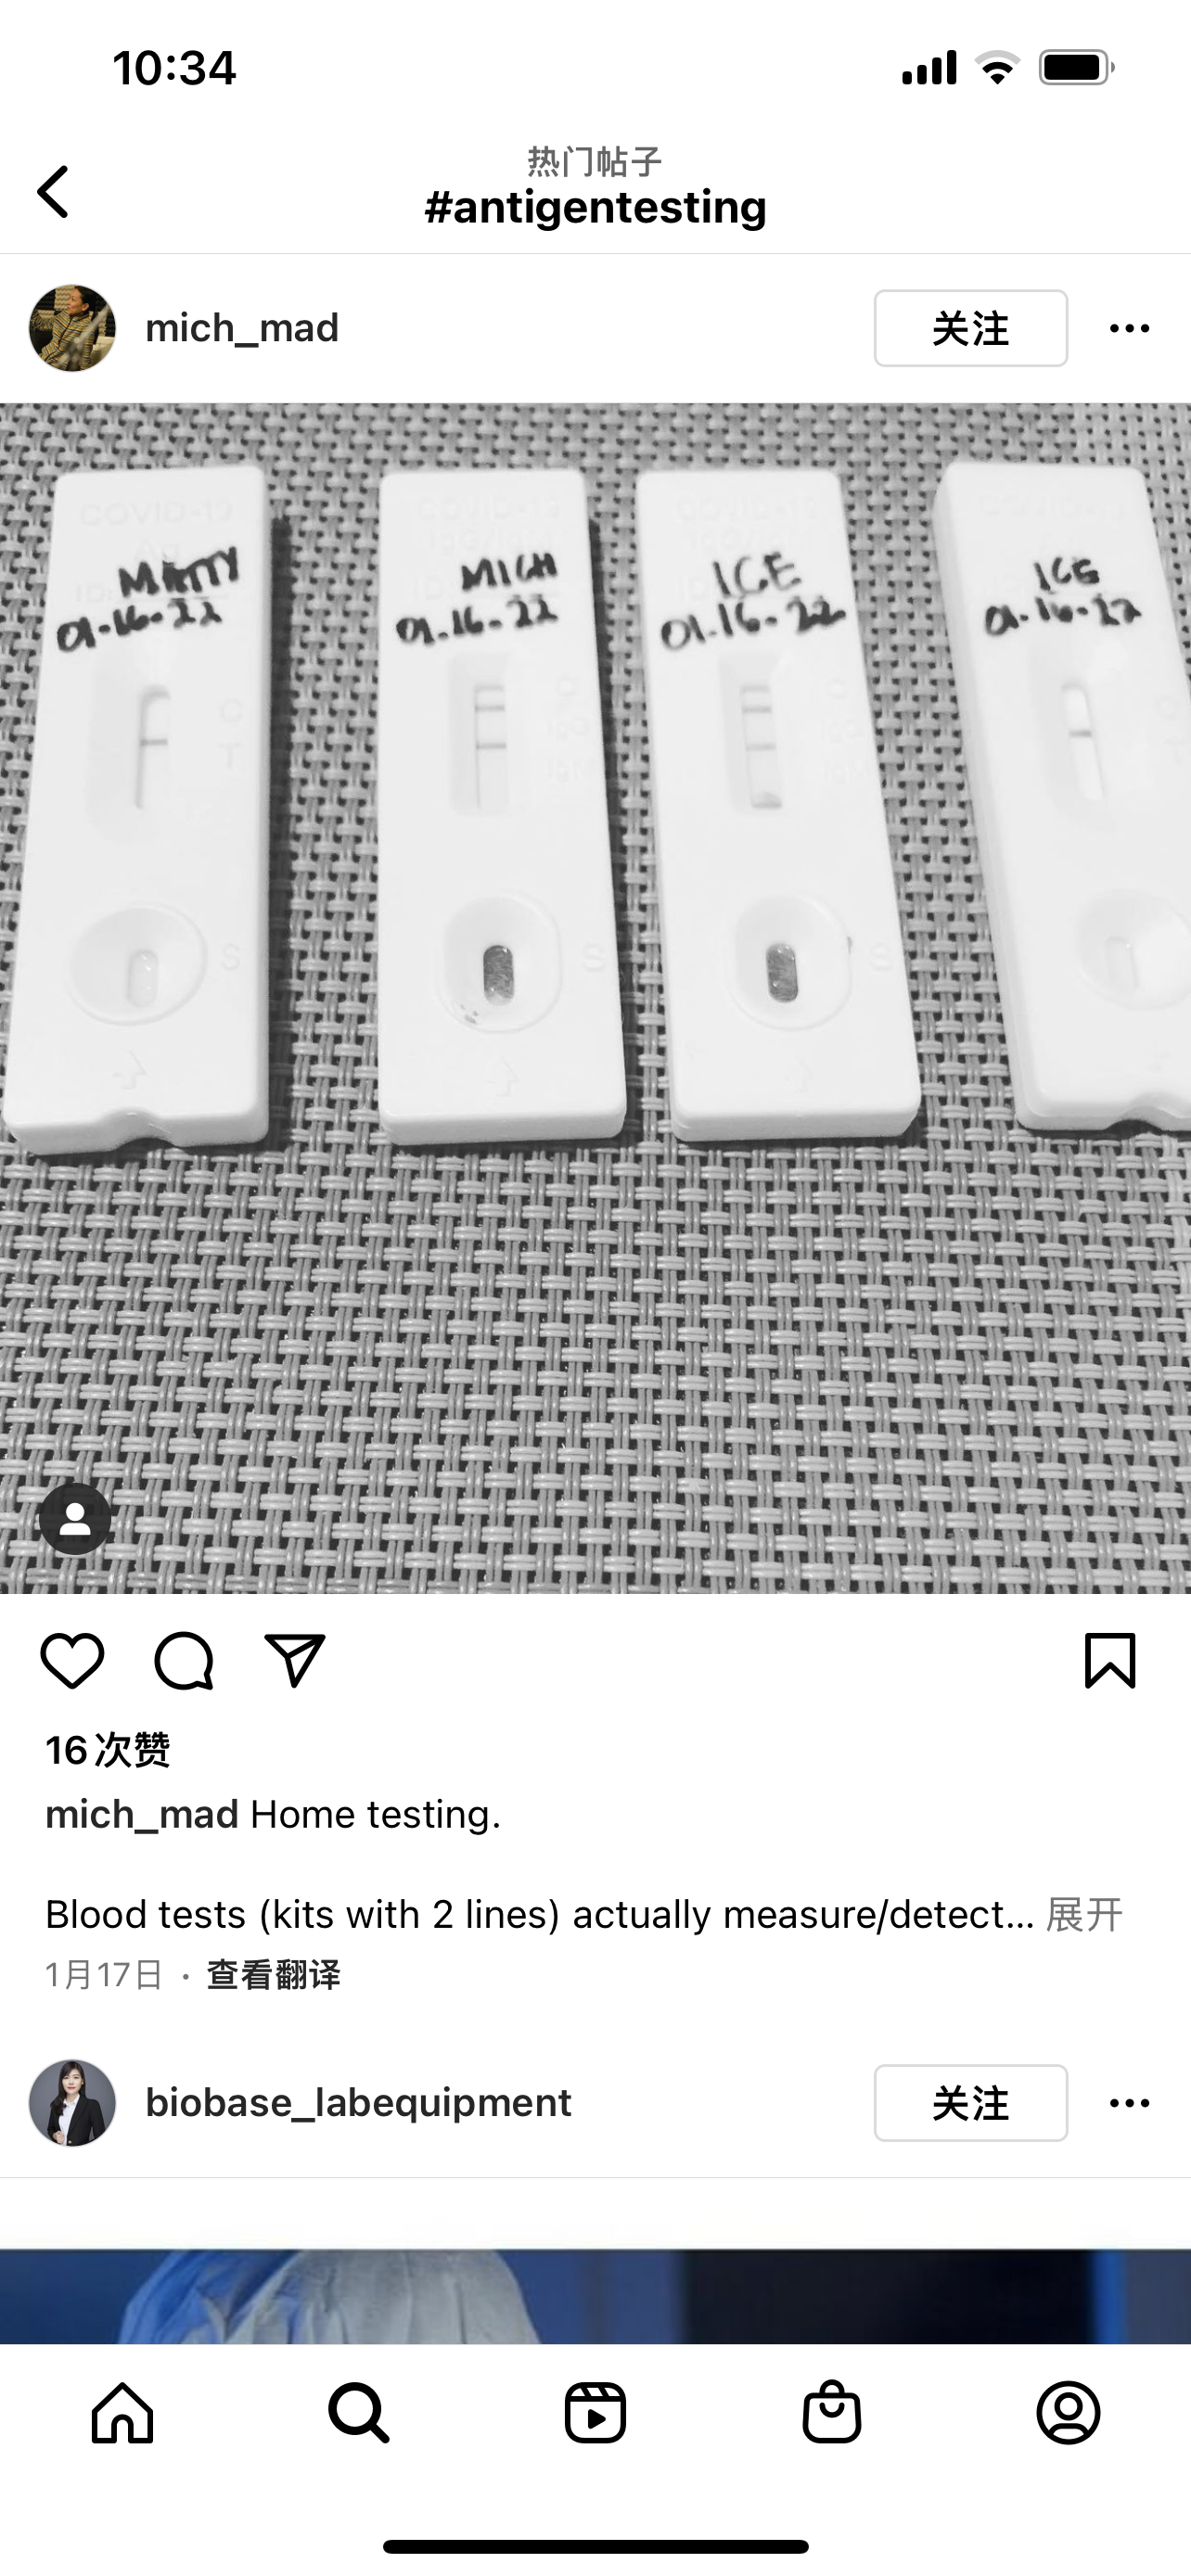positive: (458, 660, 522, 821), (734, 680, 779, 784)
